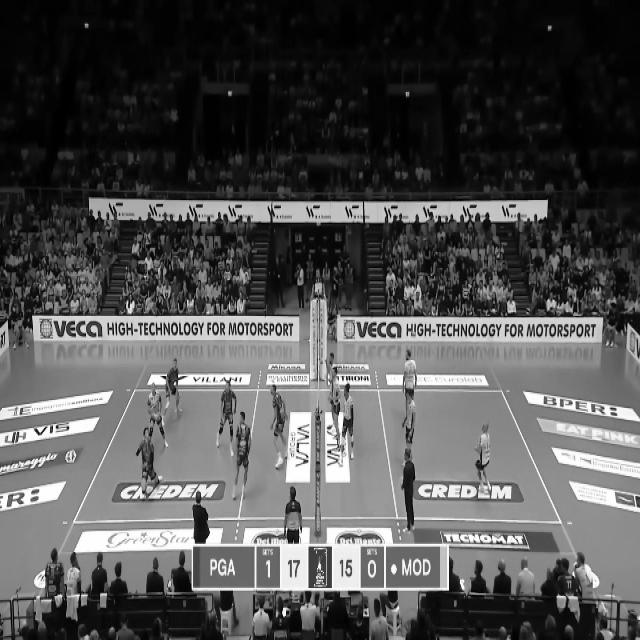volleyball court: (73, 384, 562, 523)
